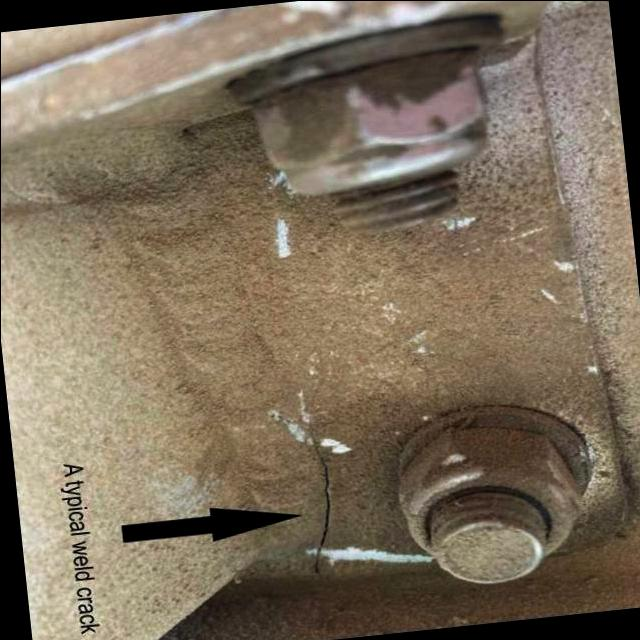defect: (301, 403, 335, 579)
